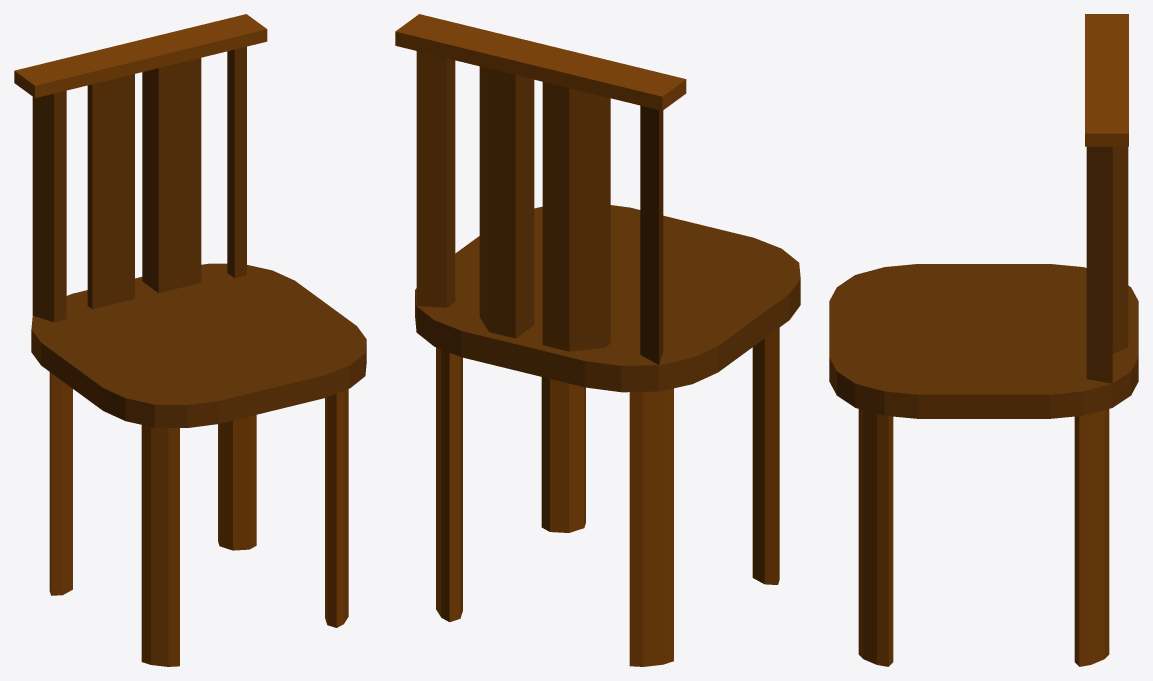
File: Chair.fbx
3 views of the same model, side by side, from view 1: azimuth 30°, elevation 25°; view 2: azimuth 150°, elevation 25°; view 3: azimuth 270°, elevation 25° (orthographic). The views are drawn at different scales.
Visible parts, largest first — view 1: Chair; view 2: Chair; view 3: Chair.
Part boxes in pixels (x1=…): Chair: x1=14, y1=14, x2=366, y2=666; Chair: x1=395, y1=14, x2=800, y2=666; Chair: x1=829, y1=14, x2=1138, y2=666.
Bounding box in the file's own units: 70.4 × 136 × 70.4.
